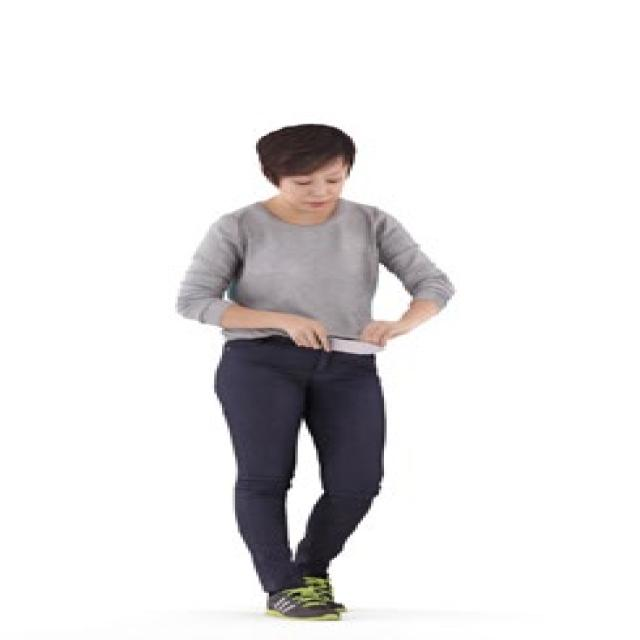standing: (171, 120, 466, 626)
